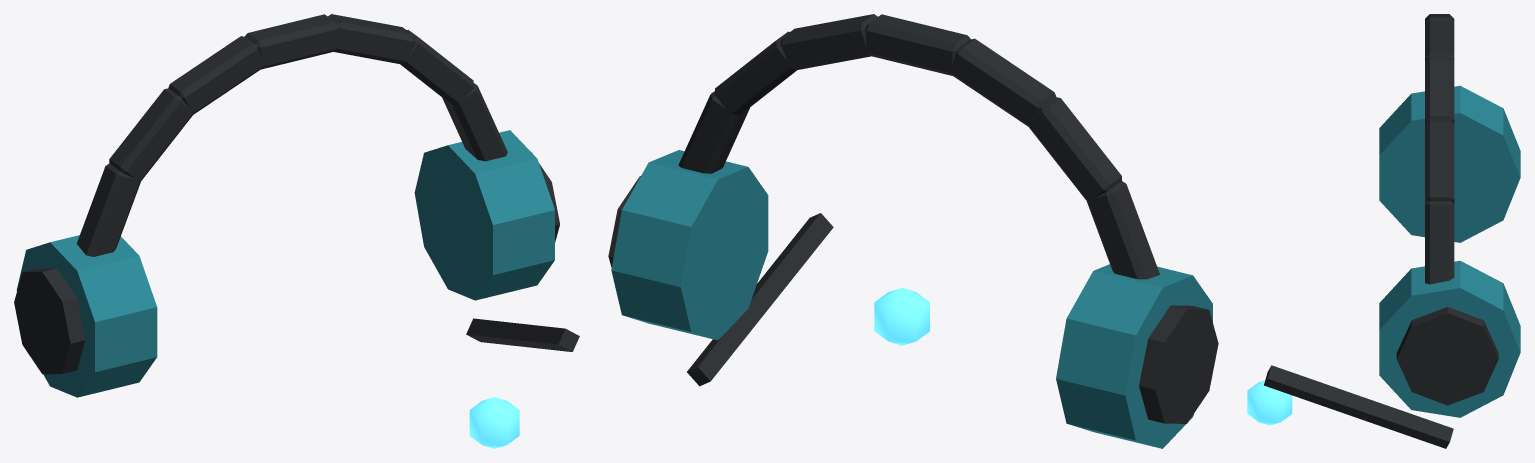
Rendered from npc_headset_teal.glb.
The picture shows the model from 3 angles, left to right: view 1: azimuth 30°, elevation 25°; view 2: azimuth 150°, elevation 25°; view 3: azimuth 270°, elevation 25°; orthographic projection. The views are drawn at different scales.
Visible parts, largest first — view 1: part.npc_headset_teal; view 2: part.npc_headset_teal; view 3: part.npc_headset_teal.
Part boxes in pixels (left/top/right/bottom): part.npc_headset_teal: left=14, top=14, right=579, bottom=448; part.npc_headset_teal: left=608, top=14, right=1218, bottom=448; part.npc_headset_teal: left=1247, top=14, right=1520, bottom=448.
Size of the model in its own units: 0.315 by 0.233 by 0.1689.
